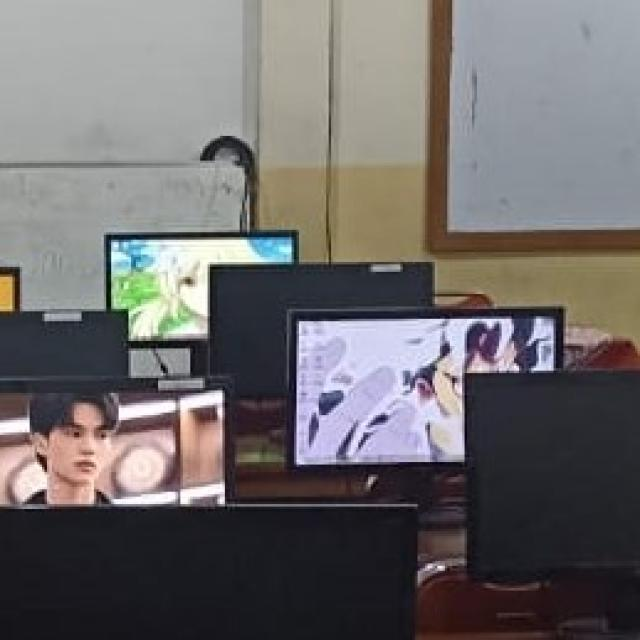offscreen: (0, 507, 413, 640), (467, 374, 640, 577), (210, 263, 433, 396), (0, 311, 126, 376)
onscreen: (295, 320, 555, 464), (0, 379, 225, 507), (107, 233, 296, 341)
